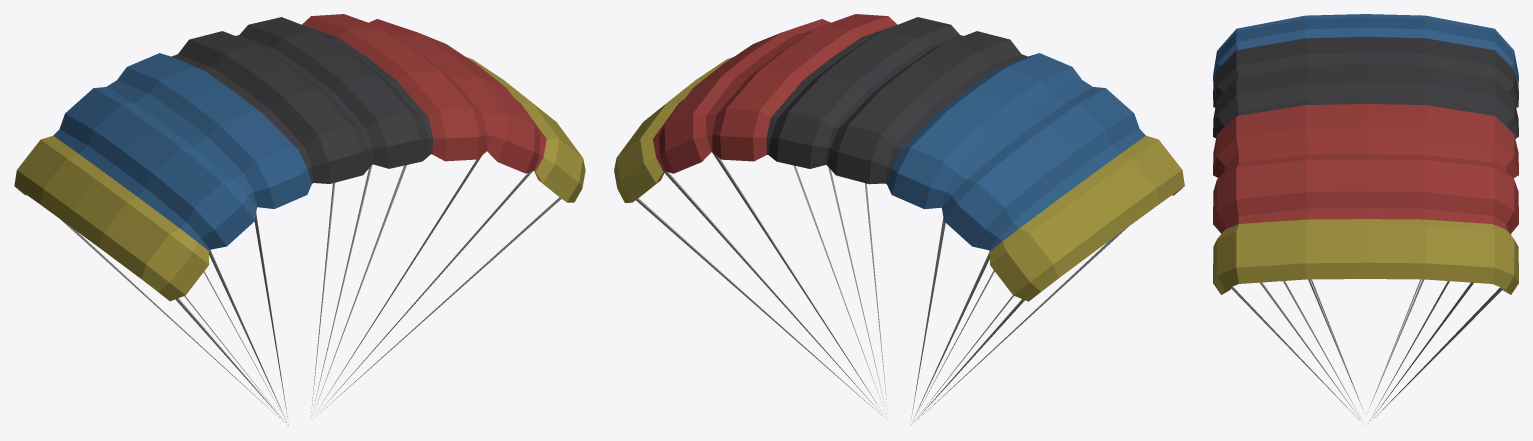
Rendered from parachute.glb.
3 renders of one model, left to right at view 1: azimuth 30°, elevation 25°; view 2: azimuth 150°, elevation 25°; view 3: azimuth 270°, elevation 25°, orthographic.
Parts seen in each view (by area): view 1: parachute; view 2: parachute; view 3: parachute.
Part boxes in pixels (x1,y1,x2,y2): parachute: (14,14,585,425); parachute: (614,14,1184,425); parachute: (1213,14,1518,423).
Size of the model in its own units: 9.11 by 6.83 by 5.22.
